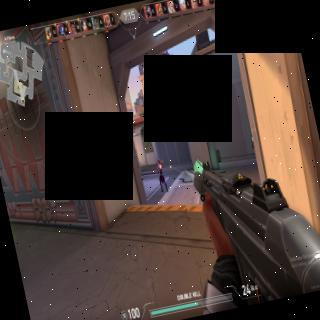ENEMY-BODY: (154, 157, 170, 194)
ENEMY-HEAD: (156, 159, 160, 166)
